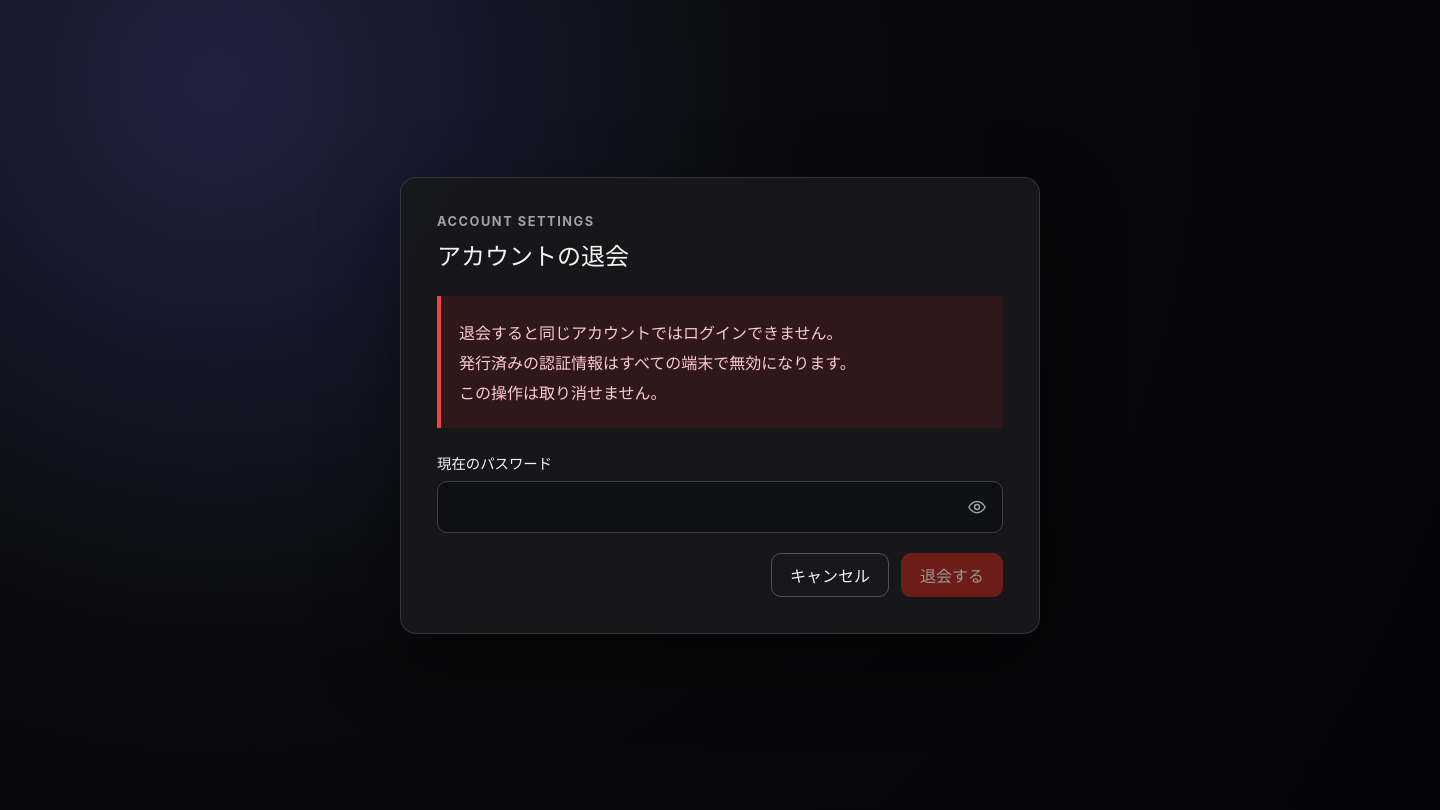
WithdrawPage › keeps the page, password, and authentication state after password mismatch
Type "wrong-password" into the password field labelled "現在のパスワード".
click(720, 506); type("wrong-password")  # box [437,480,1003,532]
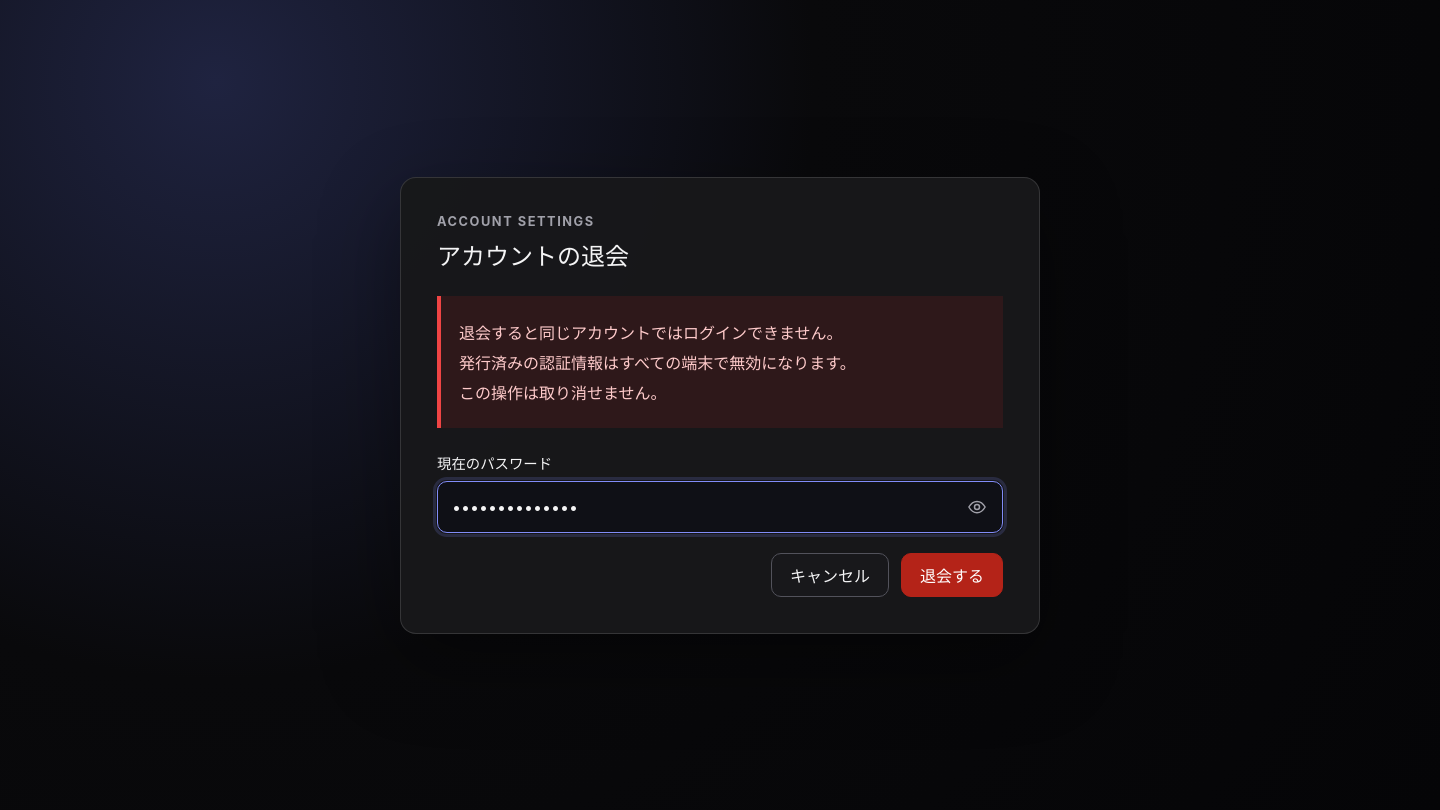
Click the button "退会する".
click(952, 574)  # box [901,552,1003,596]
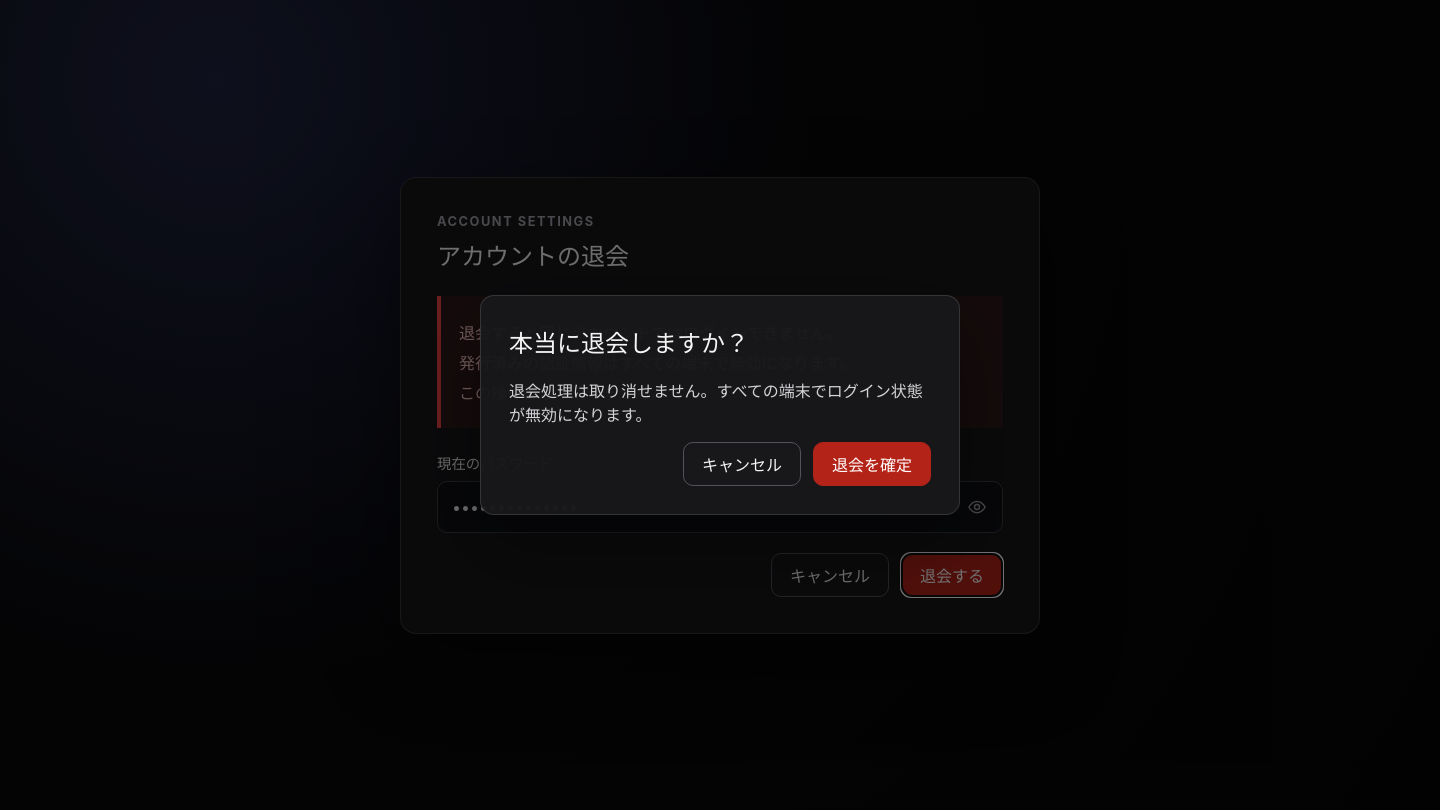
Click the button "退会を確定".
click(872, 464)  # box [813,442,931,486]
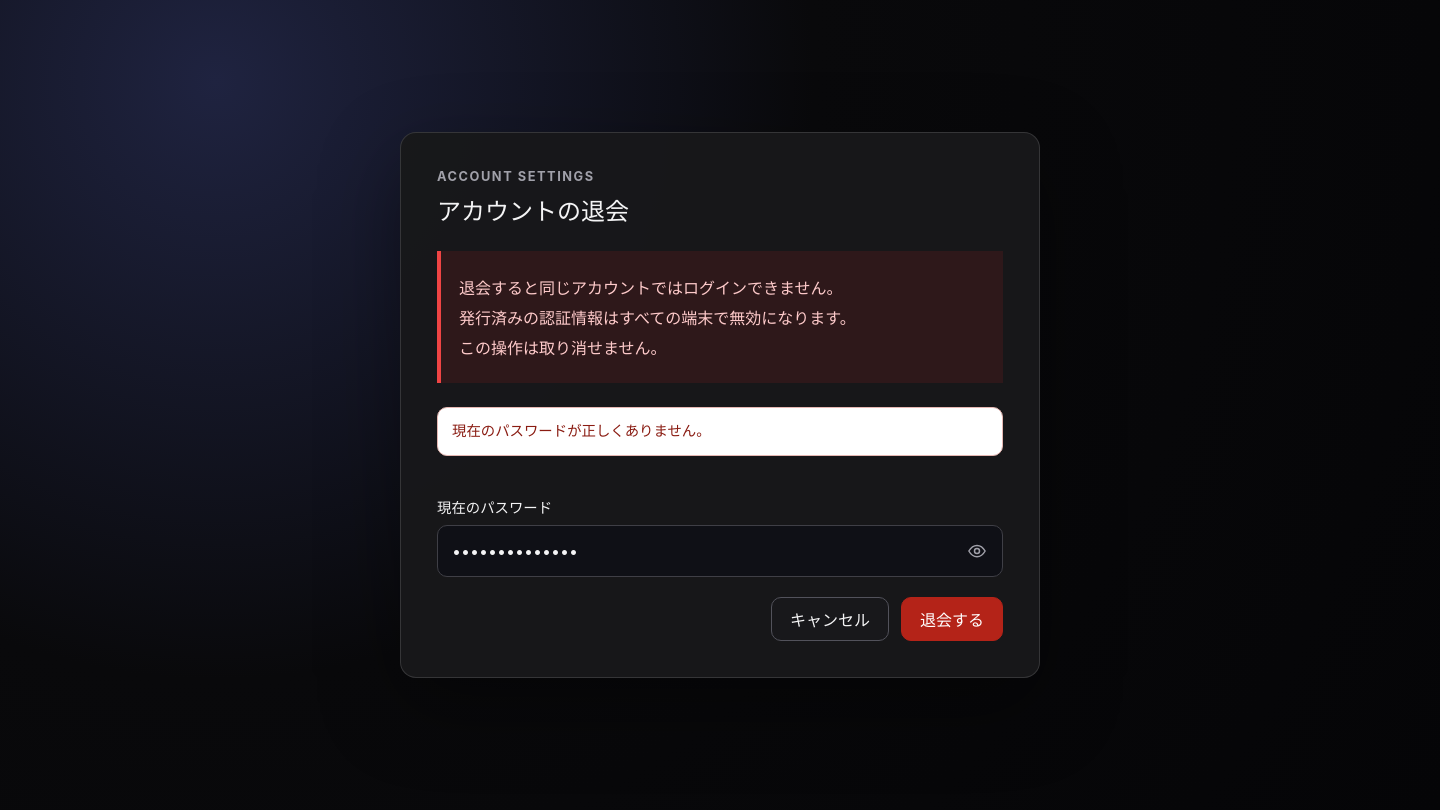
Result: the message shows "現在のパスワードが正しくありません" at [452,422,711,439]
